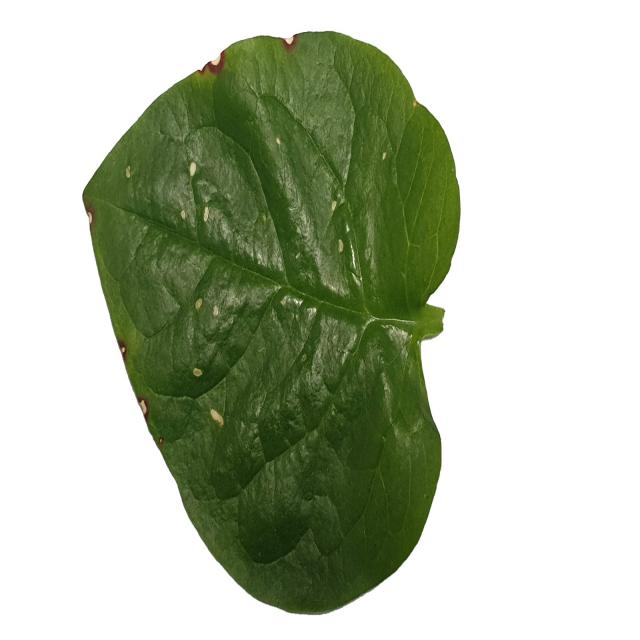Medicinal-Basale: (81, 29, 461, 616)
